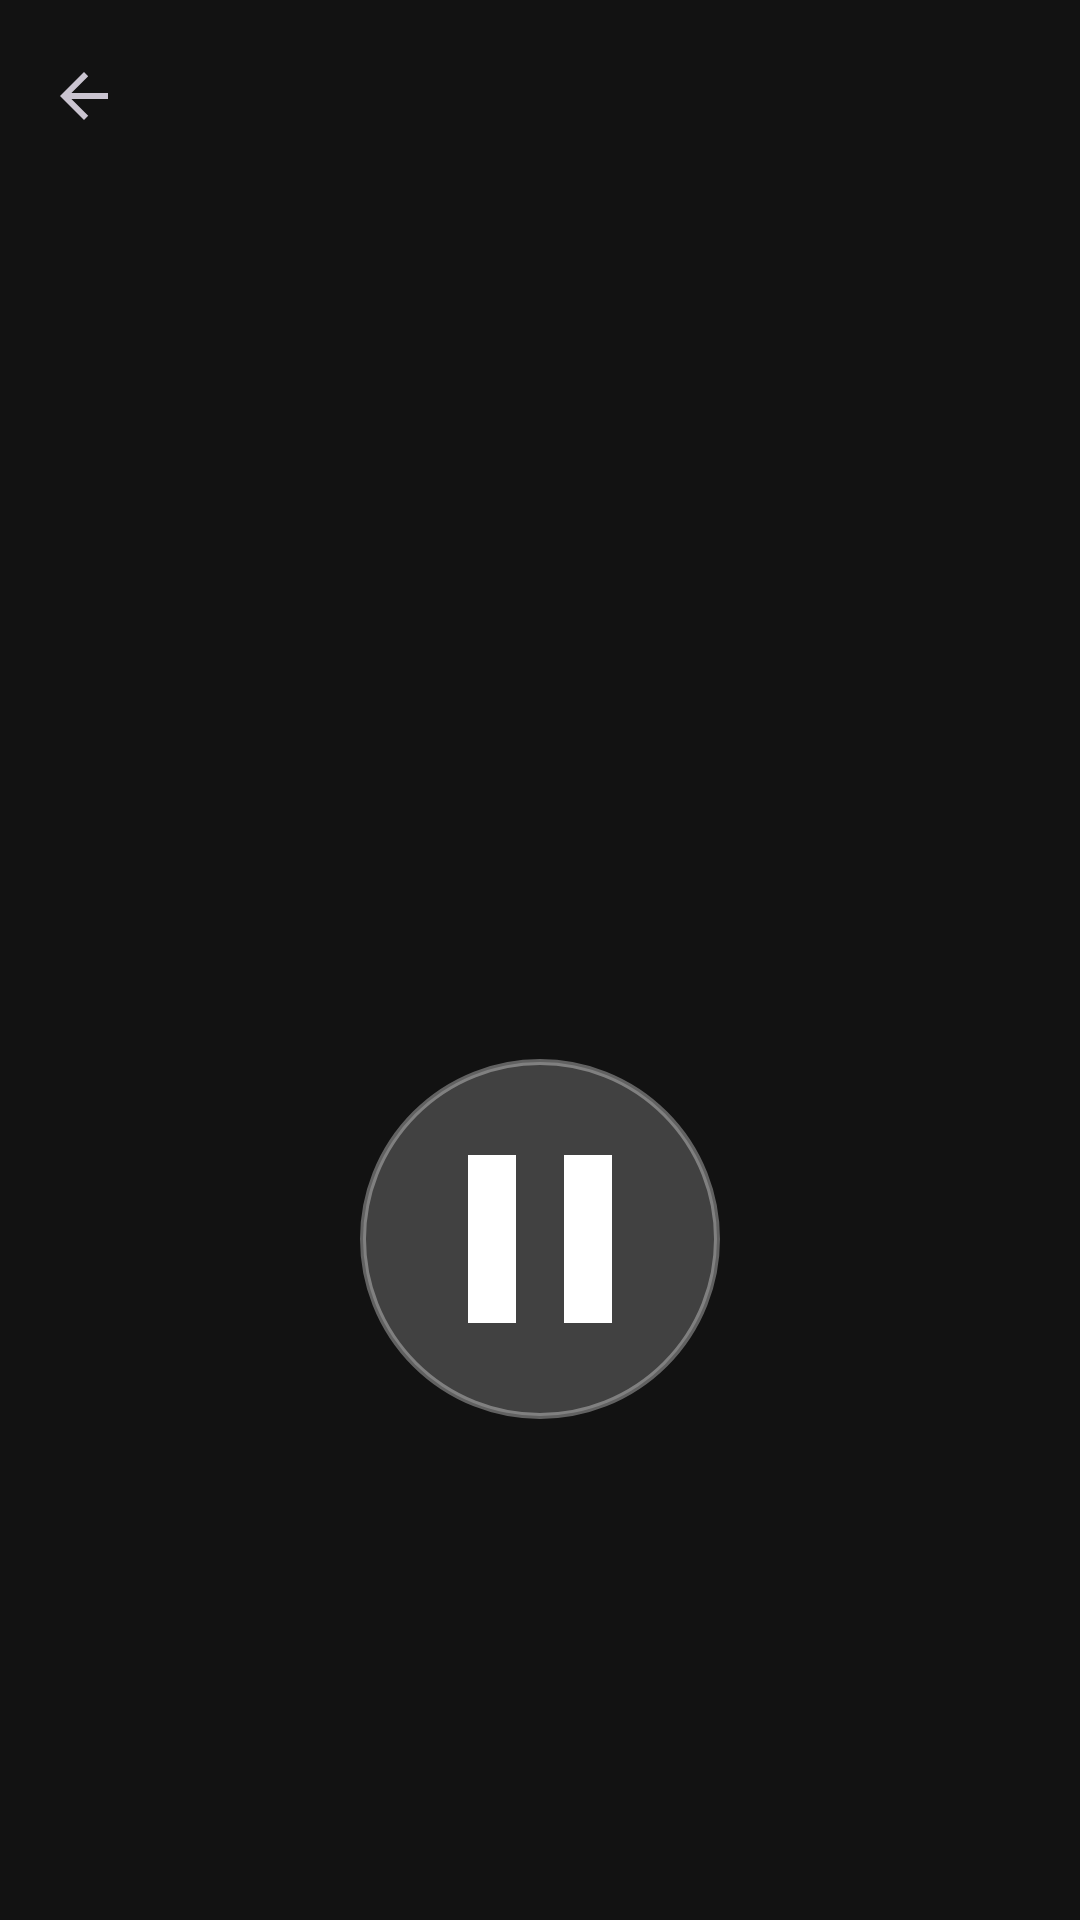

Point at icon controls on the screen. Image size 1080 x 1920, points as point (x, y).
Pause: point (540, 1239)
